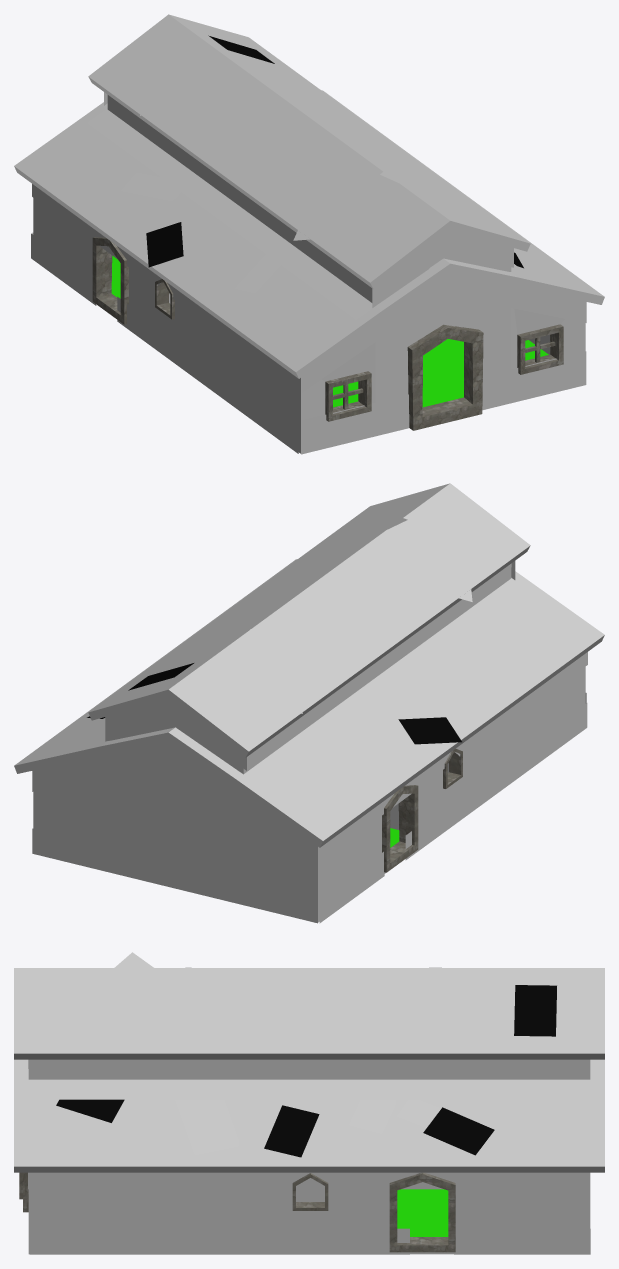
The model's file is Stable1Model.fbx.
3 views of the same model, one above another, from view 1: azimuth 30°, elevation 25°; view 2: azimuth 150°, elevation 25°; view 3: azimuth 270°, elevation 25° (orthographic). The views are drawn at different scales.
Parts seen in each view (by area): view 1: Stable_1; view 2: Stable_1; view 3: Stable_1.
Part boxes in pixels (bbox=[...]): Stable_1: bbox=[14, 14, 604, 454]; Stable_1: bbox=[14, 483, 604, 923]; Stable_1: bbox=[14, 952, 604, 1254].
Size of the model in its own units: 1300 by 846 by 2038.
